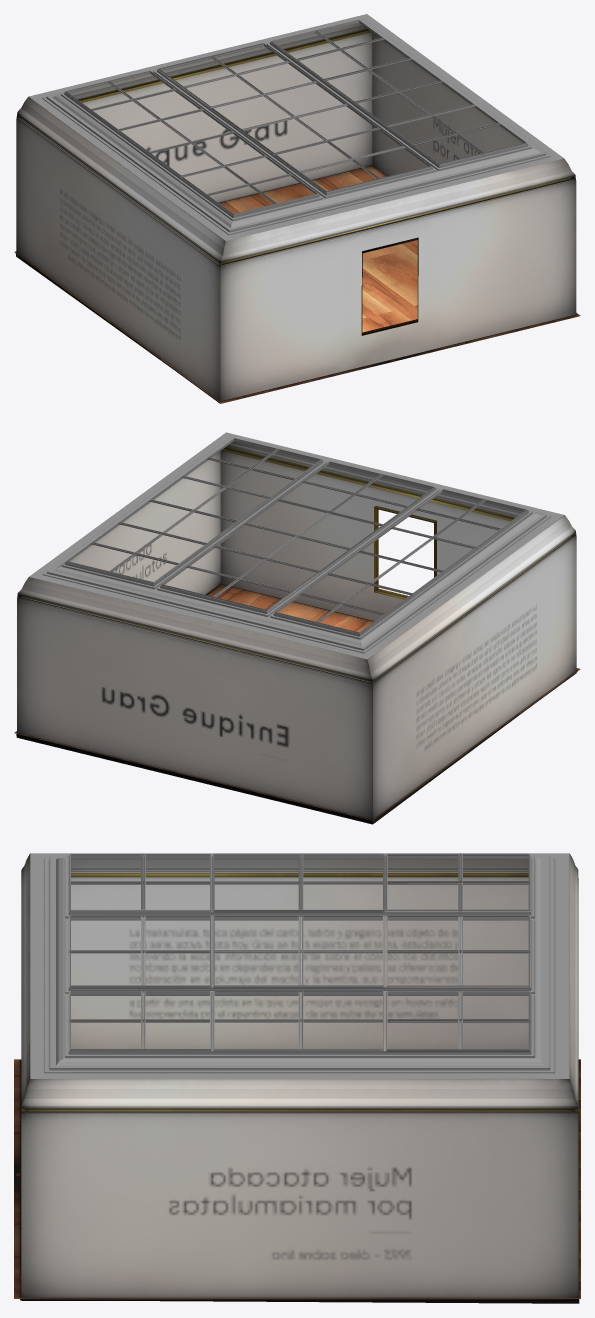
3 renders of one model, top to bottom at view 1: azimuth 30°, elevation 25°; view 2: azimuth 150°, elevation 25°; view 3: azimuth 270°, elevation 25°, orthographic. The views are drawn at different scales.
Visible parts, largest first — view 1: muros.1, Floor, muros, muros.2, Cube.1; view 2: muros.1, Floor, muros, muros.2, Cube.1; view 3: muros.1, muros.2, Floor, muros.
Boxes of the visible parts, x1,y1,x2,y2 form: muros.1: [15, 14, 576, 403]; Floor: [14, 165, 580, 403]; muros: [90, 37, 500, 195]; muros.2: [107, 30, 483, 206]; Cube.1: [361, 237, 418, 335]; muros.1: [16, 432, 577, 824]; Floor: [14, 584, 580, 820]; muros: [91, 457, 500, 615]; muros.2: [109, 448, 485, 622]; Cube.1: [374, 506, 436, 599]; muros.1: [20, 853, 579, 1303]; muros.2: [68, 881, 530, 1022]; Floor: [14, 1059, 580, 1298]; muros: [141, 854, 462, 1048].
Bounding box in the file's own units: 171 × 77.73 × 171.
3 materials, 3 textured.
